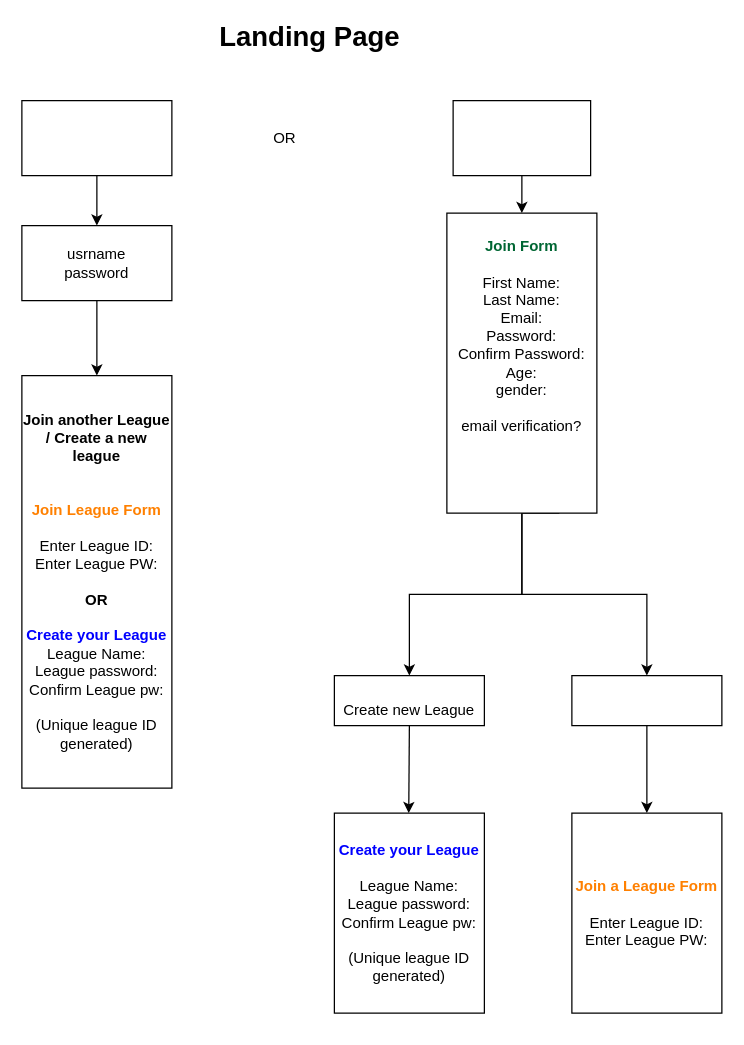
Some shapes in this 744 by 1045 pixel diagram are drawn without their labels. Here are the shapes that lost their labels. From the top down, the centre of each, then its label:
At pixel 96 137: "Login".
At pixel 521 137: "Sign Up".
At pixel 646 700: "Join a League".
